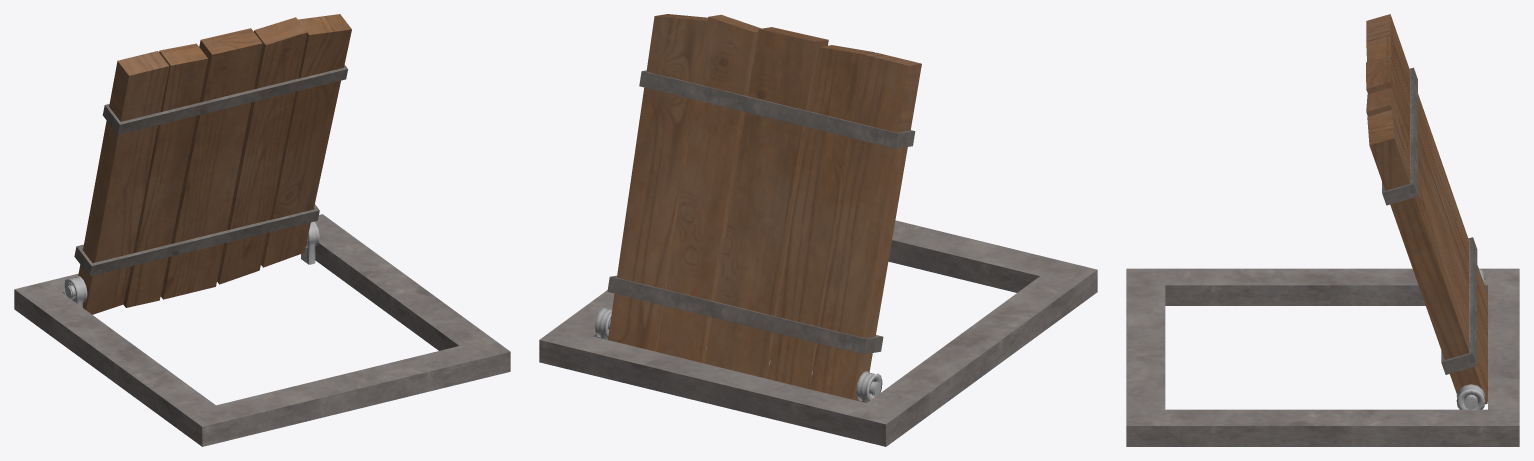
The picture shows the model from 3 angles, left to right: view 1: azimuth 30°, elevation 25°; view 2: azimuth 150°, elevation 25°; view 3: azimuth 270°, elevation 25°; orthographic projection. The views are drawn at different scales.
Parts seen in each view (by area): view 1: Giantplankboi, pCube8; view 2: Giantplankboi, pCube8; view 3: pCube8, Giantplankboi, pTorus3.
Boxes of the visible parts, x1,y1,x2,y2 form: Giantplankboi: (65, 14, 351, 314); pCube8: (14, 214, 510, 446); Giantplankboi: (607, 14, 921, 401); pCube8: (539, 220, 1097, 446); pCube8: (1126, 268, 1519, 446); Giantplankboi: (1366, 14, 1487, 409); pTorus3: (1456, 384, 1485, 409).
Size of the model in its own units: 2.74 by 2.44 by 2.89.
1 material, 1 textured.
